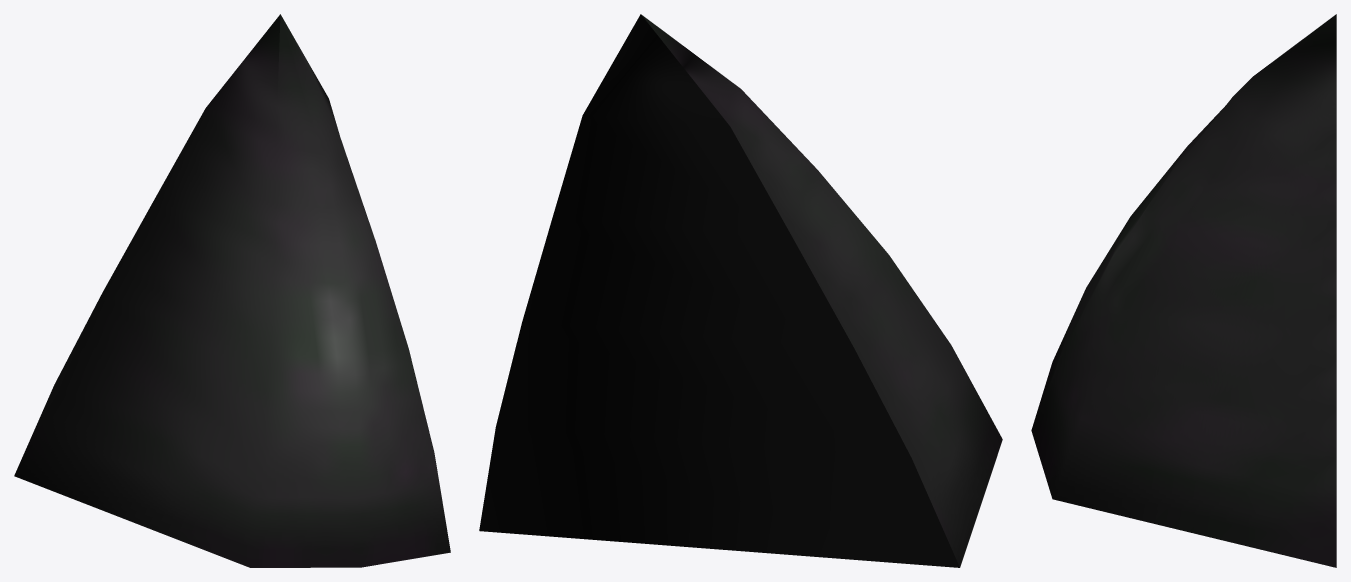
Rendered from ear_r.fbx.
3 views of the same model, side by side, from view 1: azimuth 30°, elevation 25°; view 2: azimuth 150°, elevation 25°; view 3: azimuth 270°, elevation 25° (orthographic). The views are drawn at different scales.
Parts seen in each view (by area): view 1: ear_r; view 2: ear_r; view 3: ear_r.
Part boxes in pixels (x1,y1,x2,y2): ear_r: (14,14,450,567); ear_r: (479,14,1002,567); ear_r: (1031,14,1336,567).
Bounding box in the file's own units: 0.302 × 0.3339 × 0.1904.
